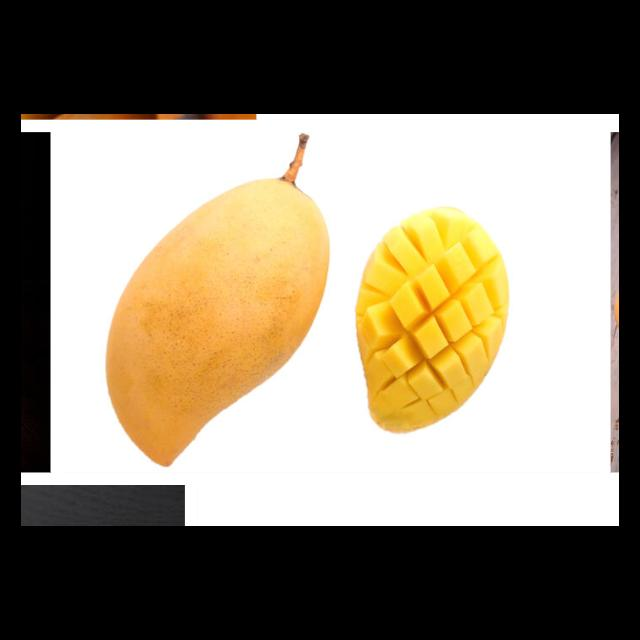mango: (104, 172, 331, 468)
